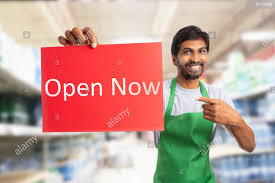Indian_Male: (166, 32, 215, 82)
